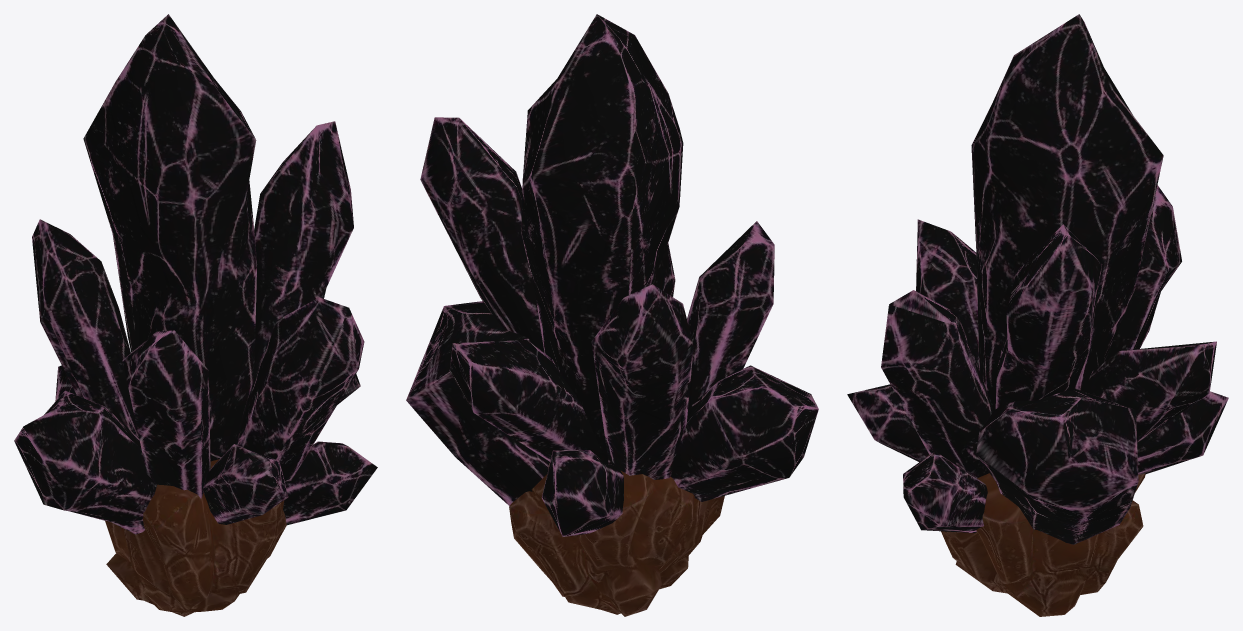
Rendered from NAT_Crystal2.glb.
3 renders of one model, left to right at view 1: azimuth 30°, elevation 25°; view 2: azimuth 150°, elevation 25°; view 3: azimuth 270°, elevation 25°, orthographic. The views are drawn at different scales.
Visible parts, largest first — view 1: Object_2; view 2: Object_2; view 3: Object_2.
Part boxes in pixels (x1=…): Object_2: x1=14, y1=14, x2=377, y2=616; Object_2: x1=406, y1=14, x2=818, y2=616; Object_2: x1=847, y1=14, x2=1228, y2=616.
Size of the model in its own units: 51.77 by 85 by 49.7.
Materials: 1 (1 with a texture image).
